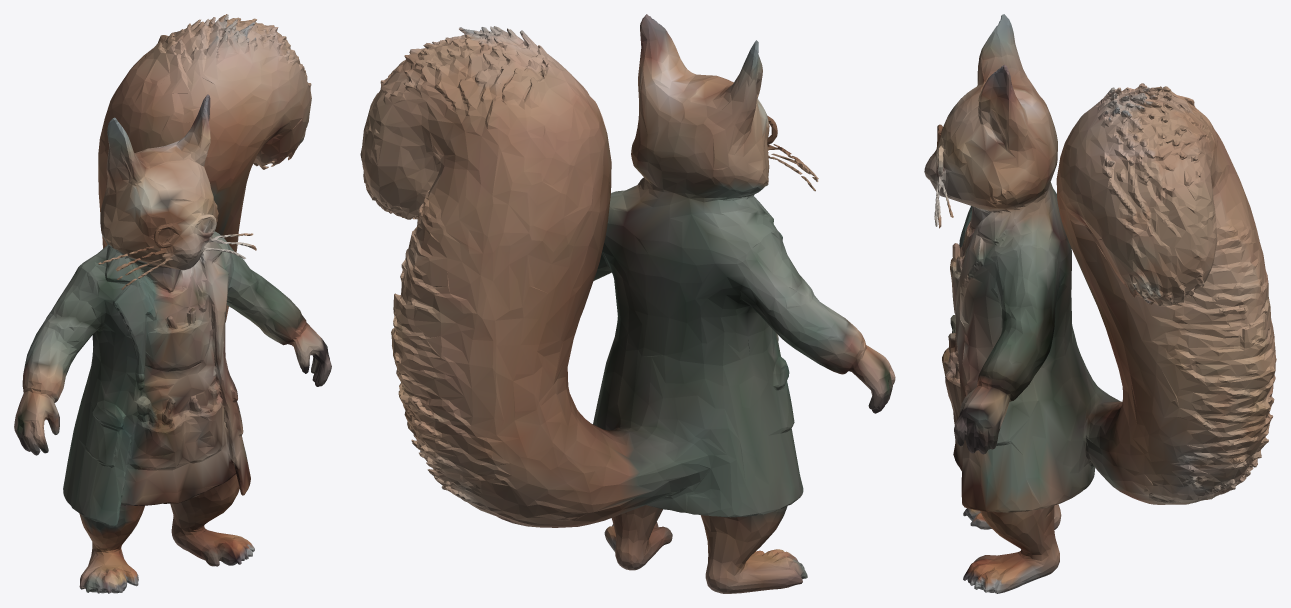
The model's file is drmineral-color.glb.
3 views of the same model, side by side, from view 1: azimuth 30°, elevation 25°; view 2: azimuth 150°, elevation 25°; view 3: azimuth 270°, elevation 25° (orthographic). The views are drawn at different scales.
Visible parts, largest first — view 1: world; view 2: world; view 3: world.
Boxes of the visible parts, bbox=[...] form: world: bbox=[14, 14, 331, 593]; world: bbox=[360, 14, 895, 593]; world: bbox=[924, 14, 1276, 593].
Size of the model in its own units: 1.56 by 1.95 by 1.19.
